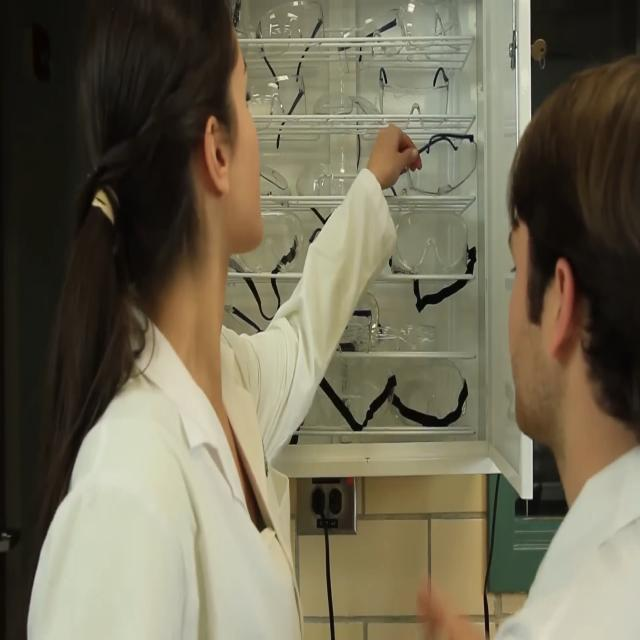googles: (302, 354, 399, 434), (389, 358, 475, 438), (391, 202, 473, 284), (333, 0, 410, 78), (323, 286, 384, 378), (406, 127, 481, 200), (226, 212, 307, 276), (374, 72, 454, 129), (251, 0, 329, 57), (297, 152, 364, 215), (242, 68, 310, 127), (308, 85, 384, 136), (399, 0, 464, 58), (367, 313, 440, 354), (220, 296, 274, 345), (252, 155, 295, 214), (219, 0, 251, 56)
labcoat: (24, 157, 400, 640), (483, 429, 639, 640)
